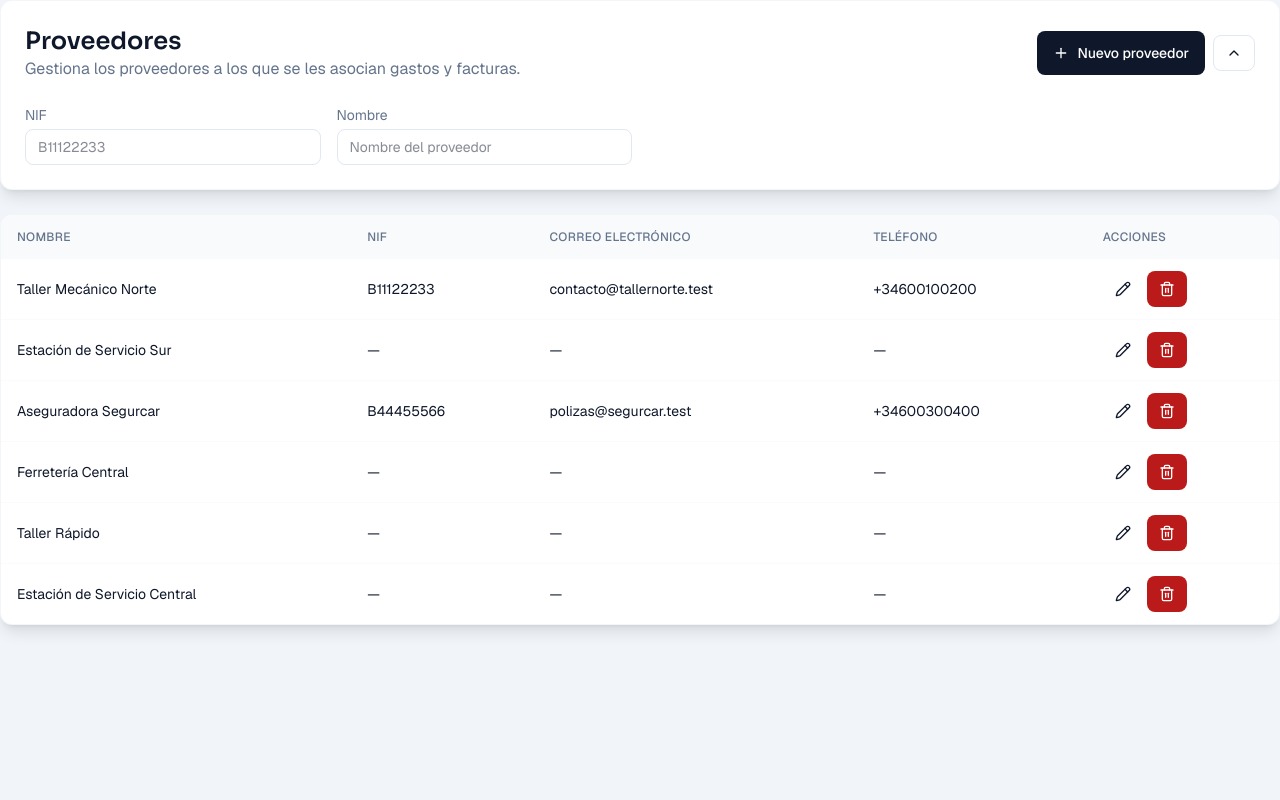
Test case: Suppliers › narrows the supplier list with the NIF filter
Expected: the text "Taller Mecánico Norte" is shown, 1,259 -> 351,320
Type "B111" into the field named "buscar por nif" at (173, 147), box 25,129 -> 320,165
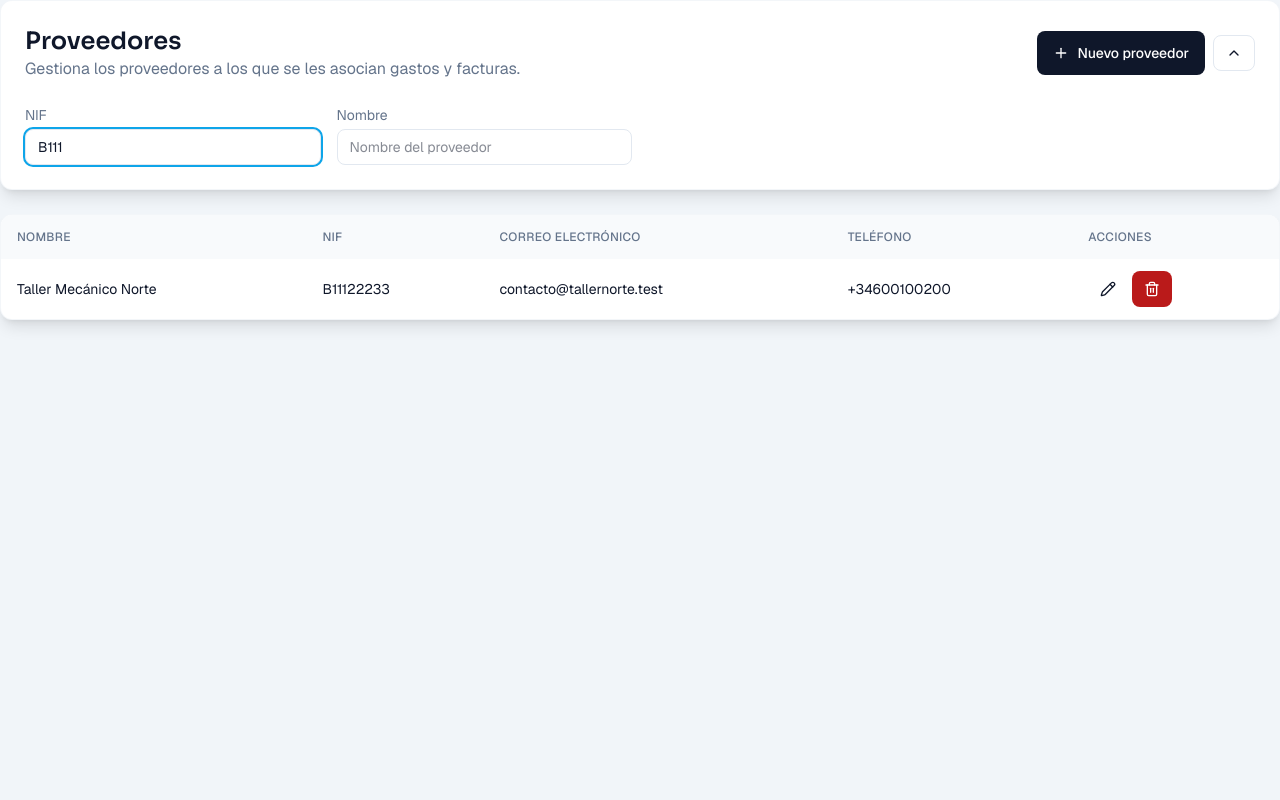
Expected: the text "Taller Mecánico Norte" is shown, 1,259 -> 307,319
Now the text "Estación de Servicio Sur" is gone
